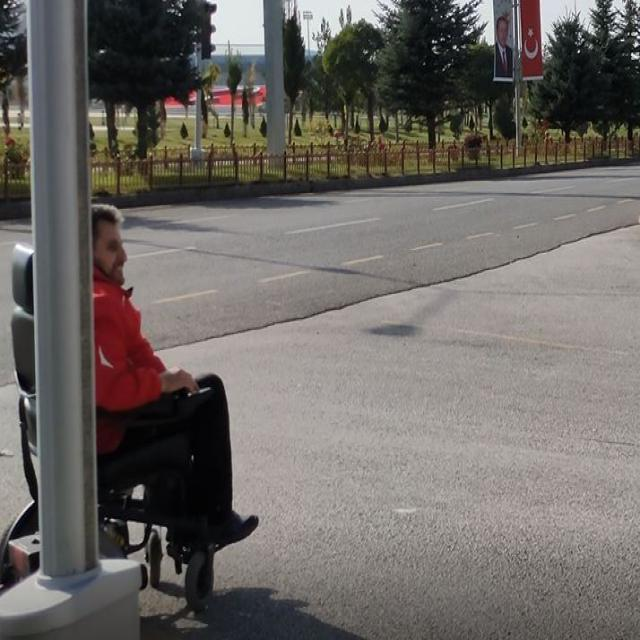wheelchairs: (92, 392, 230, 610)
